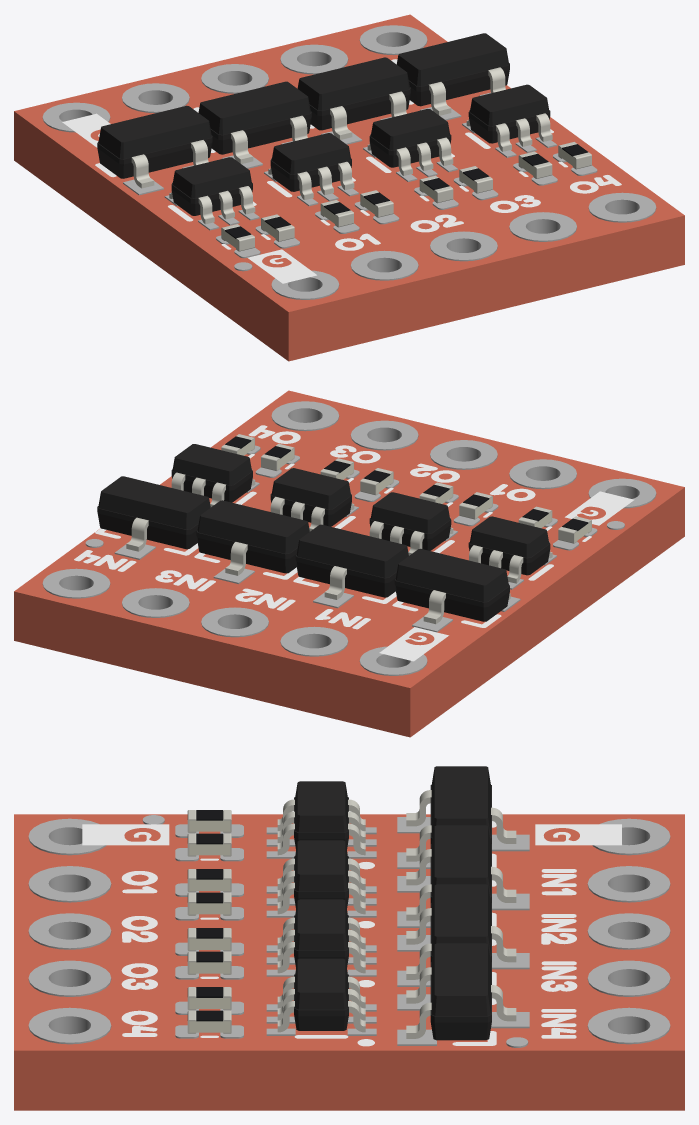
The model's file is SparkFun_Ideal_Diode_Breakout_3d_model.glb.
The picture shows the model from 3 angles, top to bottom: view 1: azimuth 30°, elevation 25°; view 2: azimuth 150°, elevation 25°; view 3: azimuth 270°, elevation 25°; orthographic projection. The views are drawn at different scales.
Parts seen in each view (by area): view 1: =>[0:1:1:8], =>[0:1:1:6], Q2, Q4, Q6, Q8, =>[0:1:1:7], Q7, Q5, Q1, Q3, R8 (+7 smaller); view 2: =>[0:1:1:8], =>[0:1:1:6], =>[0:1:1:7], Q2, Q6, Q8, Q4, Q1, Q3, Q7, Q5, R6 (+3 smaller); view 3: =>[0:1:1:8], =>[0:1:1:6], =>[0:1:1:7], Q8, Q7, Q6, Q2, Q4, Q5, Q1, Q3, R3 (+7 smaller).
Part boxes in pixels (<box>): =>[0:1:1:8]: <box>14,14,684,361</box>; =>[0:1:1:6]: <box>42,25,656,299</box>; Q2: <box>97,105,212,188</box>; Q4: <box>198,81,311,163</box>; Q6: <box>297,57,410,139</box>; Q8: <box>396,33,509,115</box>; =>[0:1:1:7]: <box>62,59,621,283</box>; Q7: <box>466,84,552,151</box>; Q5: <box>367,109,453,175</box>; Q1: <box>169,157,255,224</box>; Q3: <box>268,133,354,200</box>; R8: <box>518,151,552,178</box>; =>[0:1:1:8]: <box>14,390,684,737</box>; =>[0:1:1:6]: <box>42,401,656,675</box>; =>[0:1:1:7]: <box>74,425,634,661</box>; Q2: <box>394,548,510,624</box>; Q6: <box>196,500,309,575</box>; Q8: <box>97,476,210,551</box>; Q4: <box>295,524,408,599</box>; Q1: <box>468,516,552,583</box>; Q3: <box>369,492,453,555</box>; Q7: <box>171,444,255,507</box>; Q5: <box>270,468,354,531</box>; R6: <box>360,468,393,495</box>; =>[0:1:1:8]: <box>14,814,684,1110</box>; =>[0:1:1:6]: <box>28,815,670,1047</box>; =>[0:1:1:7]: <box>82,821,621,1046</box>; Q8: <box>406,943,516,1040</box>; Q7: <box>277,958,365,1032</box>; Q6: <box>406,884,516,979</box>; Q2: <box>406,766,516,861</box>; Q4: <box>406,825,516,920</box>; Q5: <box>277,899,365,973</box>; Q1: <box>277,781,365,855</box>; Q3: <box>277,840,365,914</box>; R3: <box>187,892,231,915</box>.
Bounding box in the file's own units: 0.0127 × 0.00287 × 0.0152.
